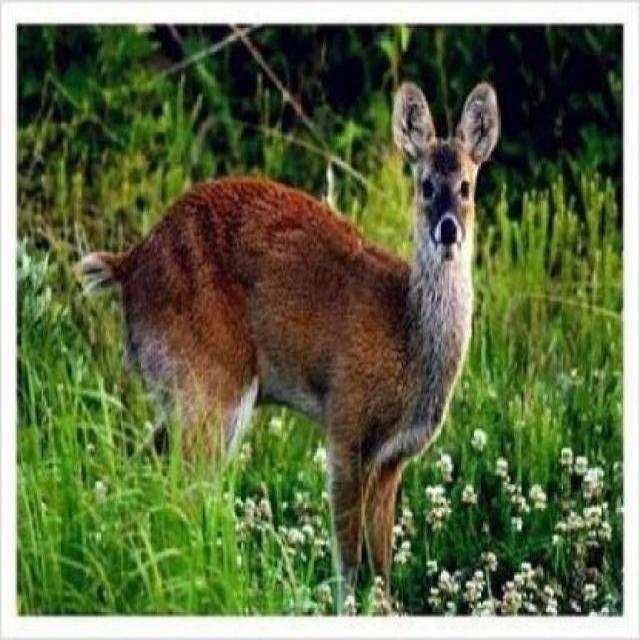deer: (89, 79, 502, 610)
